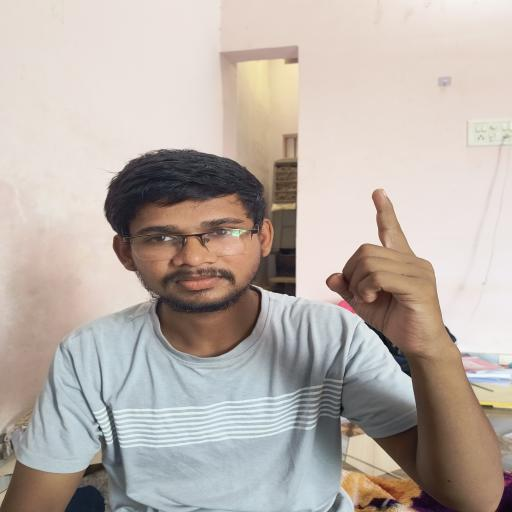What: (295, 174, 496, 368)
